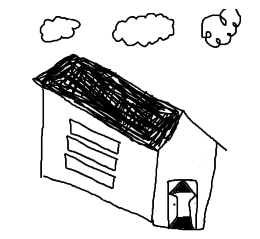clouds: (107, 10, 182, 50), (195, 5, 248, 50), (38, 9, 83, 49)
door: (161, 171, 202, 239)
open_window: (52, 117, 134, 154), (60, 152, 115, 193)
shaded_roof: (25, 50, 226, 153)
wall: (38, 87, 162, 228), (146, 107, 225, 234)
